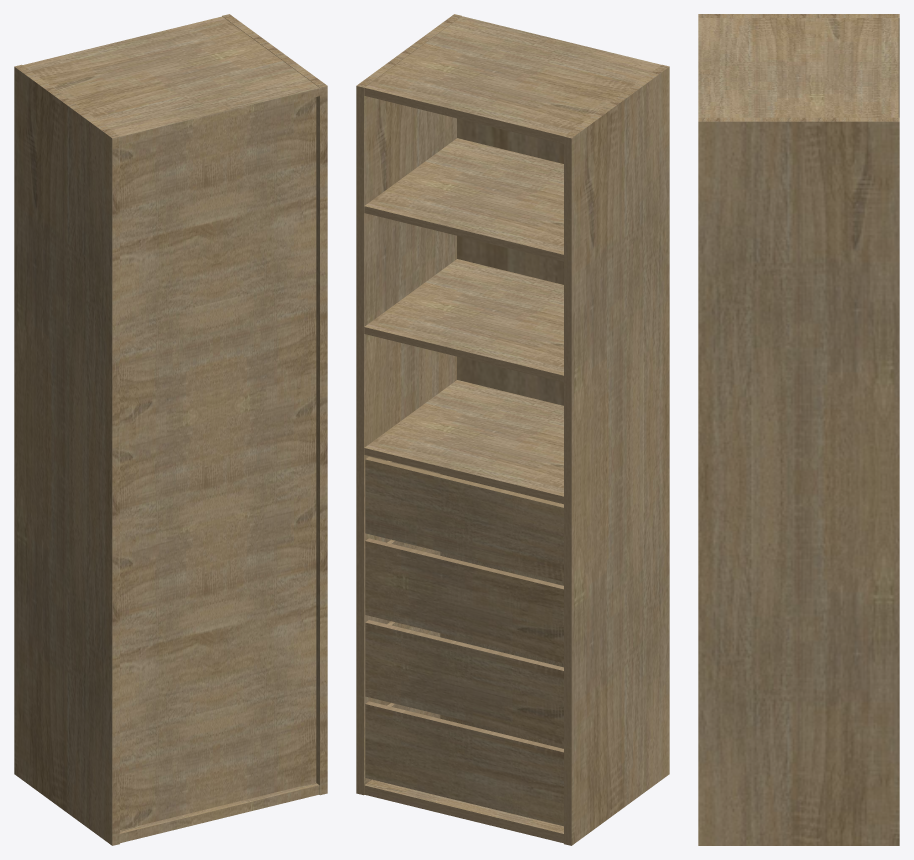
3 views of the same model, side by side, from view 1: azimuth 30°, elevation 25°; view 2: azimuth 150°, elevation 25°; view 3: azimuth 270°, elevation 25° (orthographic). The views are drawn at different scales.
Visible parts, largest first — view 1: Bundle_4_04143-Oak; view 2: Bundle_4_04143-Oak, Bundle_4_04143-Oak_Edging; view 3: Bundle_4_04143-Oak.
Boxes of the visible parts, x1,y1,x2,y2 form: Bundle_4_04143-Oak: (14,14,327,845); Bundle_4_04143-Oak: (356,14,669,845); Bundle_4_04143-Oak_Edging: (356,86,571,845); Bundle_4_04143-Oak: (698,14,899,845).
Size of the model in its own units: 0.506 by 1.59 by 0.3997.
2 materials, 2 textured.
